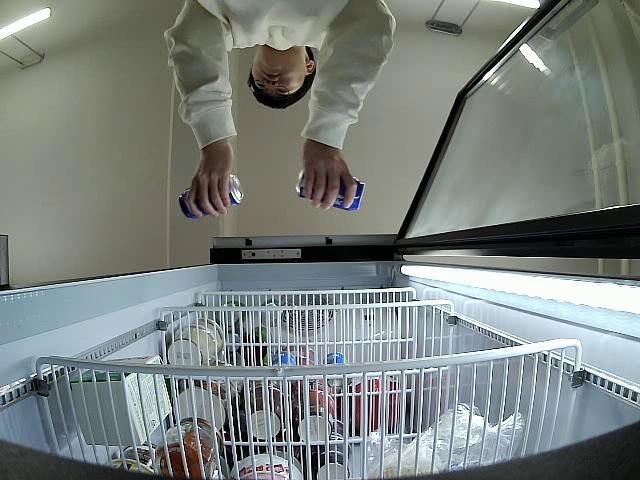13_pocariSweat: (294, 167, 366, 216), (176, 172, 245, 218)
